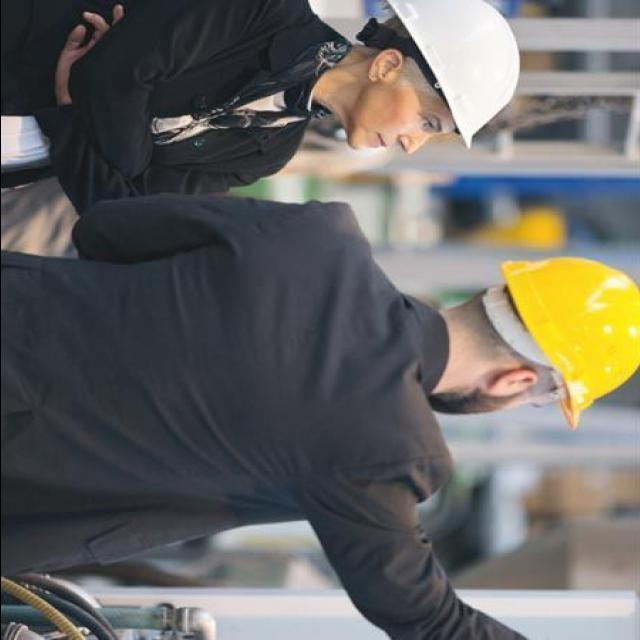helmet: (491, 244, 640, 438), (387, 0, 522, 148)
